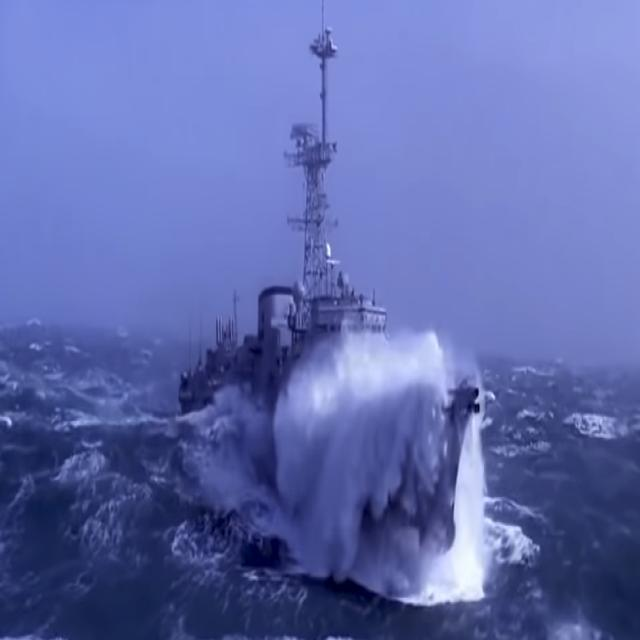navalvessels: (172, 0, 469, 557)
